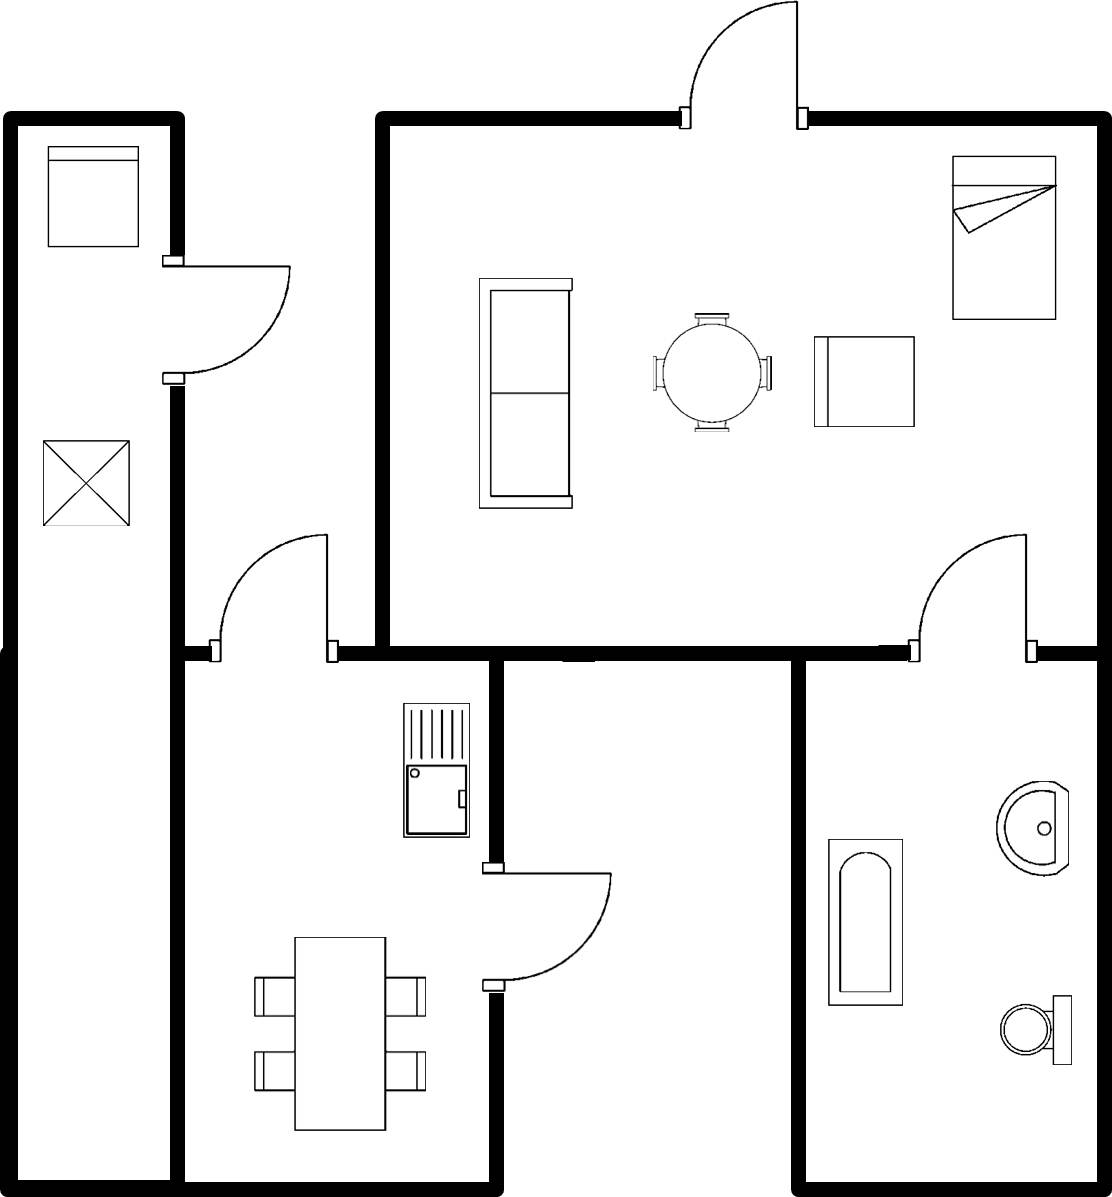bed: (942, 147, 1070, 332)
coffee_table: (36, 432, 139, 536)
dining_table: (244, 926, 436, 1143), (468, 268, 581, 518)
large_sink: (993, 990, 1078, 1075)
round_table: (643, 304, 778, 441)
sink: (397, 695, 478, 847)
small_sink: (989, 775, 1078, 885)
small_sofa: (805, 324, 925, 438), (39, 139, 149, 262)
tub: (819, 831, 914, 1015)
